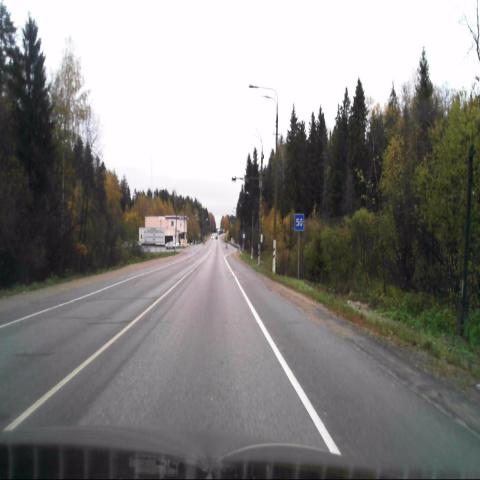6_2: (295, 213, 303, 230)
